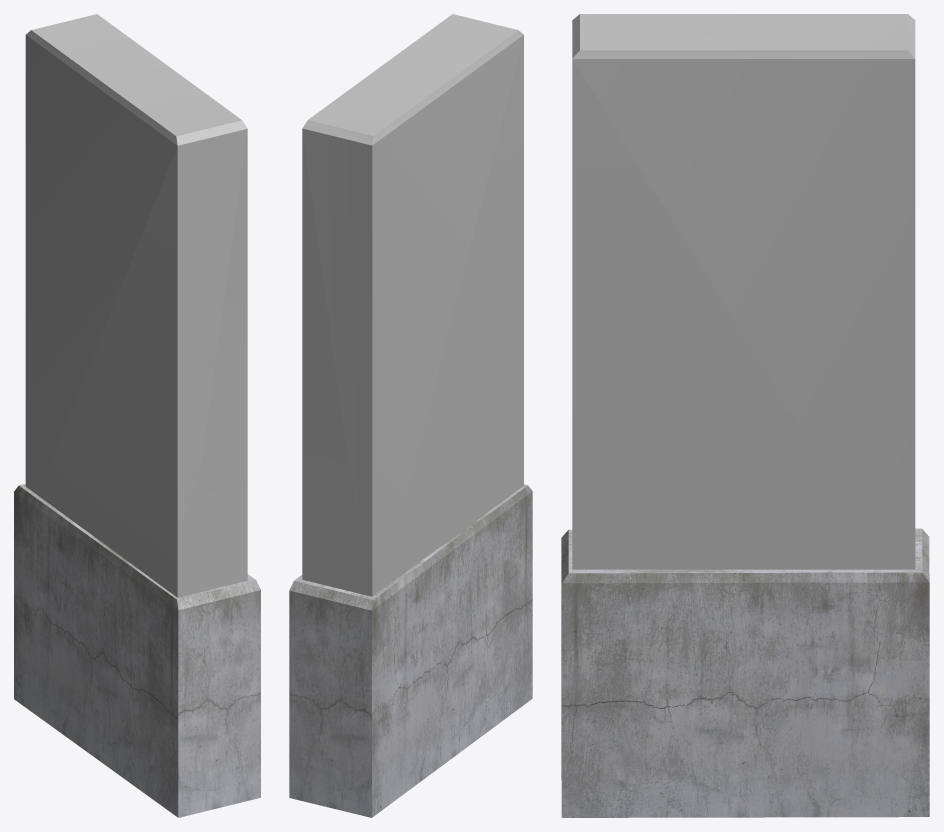
Rendered from entgate_parts01a.fbx.
The picture shows the model from 3 angles, left to right: view 1: azimuth 30°, elevation 25°; view 2: azimuth 150°, elevation 25°; view 3: azimuth 270°, elevation 25°; orthographic projection. The views are drawn at different scales.
Parts seen in each view (by area): view 1: entgate_parts01a; view 2: entgate_parts01a; view 3: entgate_parts01a.
Boxes of the visible parts, x1,y1,x2,y2 form: entgate_parts01a: [14, 14, 260, 817]; entgate_parts01a: [289, 14, 532, 817]; entgate_parts01a: [561, 14, 929, 817].
Bounding box in the file's own units: 0.2204 × 1.69 × 0.738.
